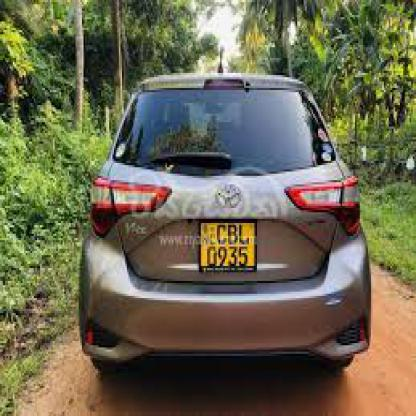car: (80, 60, 371, 377)
